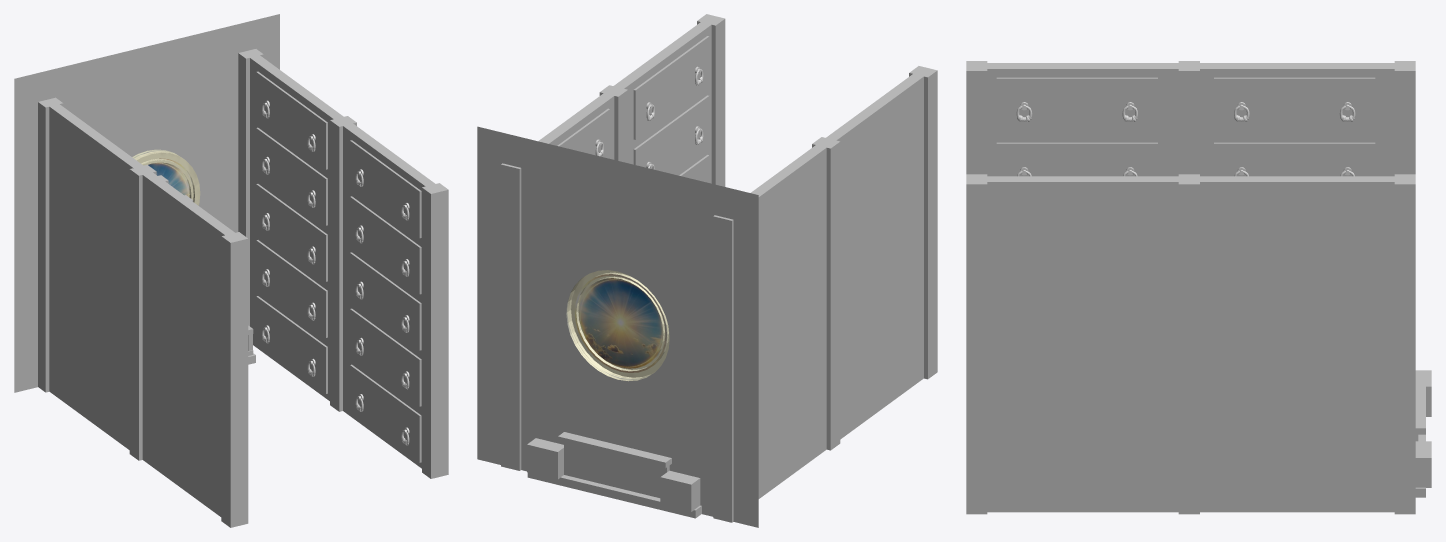
File: Mausoleum inside.fbx
The picture shows the model from 3 angles, left to right: view 1: azimuth 30°, elevation 25°; view 2: azimuth 150°, elevation 25°; view 3: azimuth 270°, elevation 25°; orthographic projection. The views are drawn at different scales.
Parts seen in each view (by area): view 1: Cube.011, Cube.016, Cylinder, Torus, Cylinder.009, Cylinder.010; view 2: Cube.011, Cylinder, Cube.016, Cube.002, Cylinder.010, Cylinder.009, Cube.005, Torus; view 3: Cube.011, Cube.016, Cube.002, Torus.
Boxes of the visible parts, x1,y1,x2,y2 form: Cube.011: [38, 49, 448, 527]; Cube.016: [256, 71, 421, 462]; Cylinder: [14, 14, 279, 392]; Torus: [262, 100, 409, 445]; Cylinder.009: [132, 149, 200, 205]; Cylinder.010: [148, 158, 192, 197]; Cube.011: [501, 14, 937, 522]; Cylinder: [477, 126, 758, 527]; Cube.016: [557, 36, 709, 182]; Cube.002: [527, 432, 700, 511]; Cylinder.010: [574, 274, 666, 372]; Cylinder.009: [566, 270, 669, 381]; Cube.005: [527, 472, 701, 518]; Torus: [595, 66, 703, 169]; Cube.011: [966, 61, 1415, 514]; Cube.016: [996, 77, 1375, 176]; Cube.002: [1415, 370, 1431, 487]; Torus: [1016, 102, 1355, 176].
Bounding box in the file's own units: 750 × 848 × 983.
